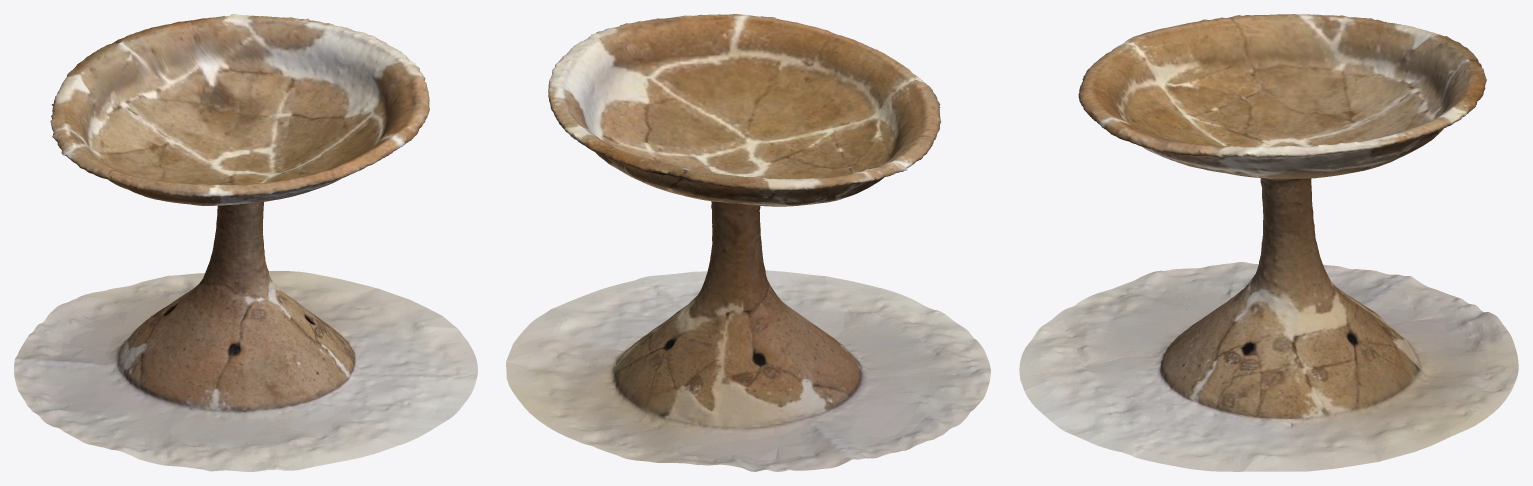
Rendered from Takatuki.glb.
3 views of the same model, side by side, from view 1: azimuth 30°, elevation 25°; view 2: azimuth 150°, elevation 25°; view 3: azimuth 270°, elevation 25° (orthographic). The views are drawn at different scales.
Parts seen in each view (by area): view 1: mesh; view 2: mesh; view 3: mesh.
Boxes of the visible parts, x1,y1,x2,y2 form: mesh: [14, 14, 477, 471]; mesh: [506, 14, 990, 471]; mesh: [1019, 14, 1518, 471].
Bounding box in the file's own units: 0.3952 × 0.2653 × 0.3929.
Materials: 1 (1 with a texture image).
